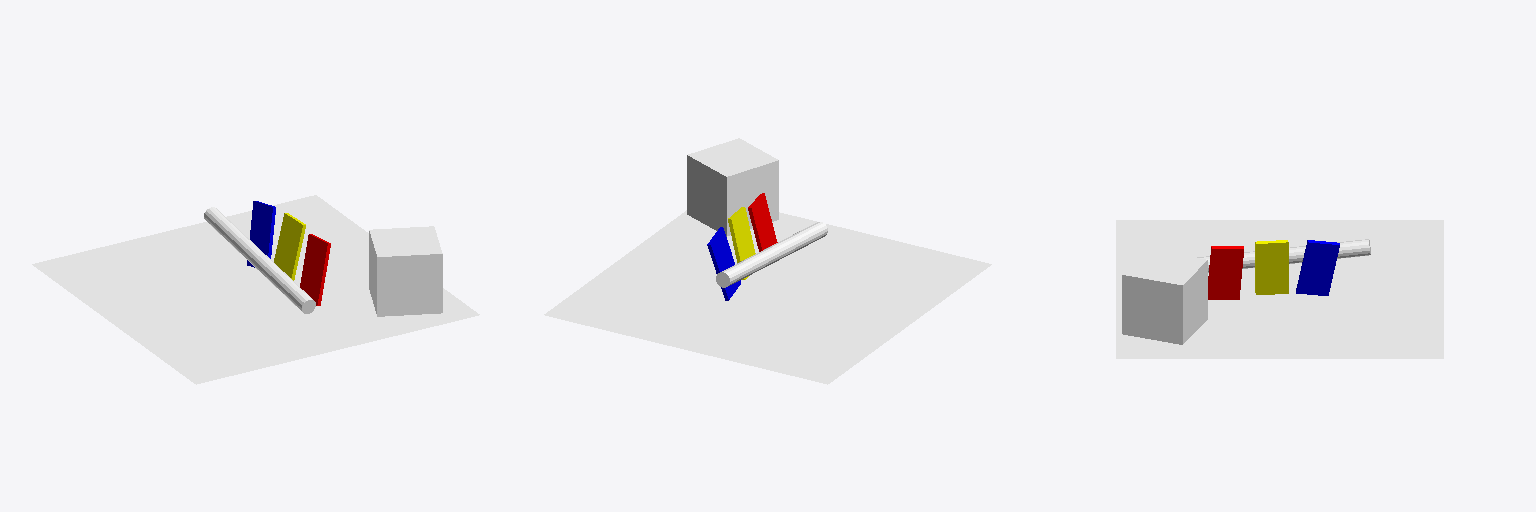
The model's file is color-bleeding.obj.
3 renders of one model, left to right at view 1: azimuth 30°, elevation 25°; view 2: azimuth 150°, elevation 25°; view 3: azimuth 270°, elevation 25°, orthographic.
Parts seen in each view (by area): view 1: color-bleeding.obj; view 2: color-bleeding.obj; view 3: color-bleeding.obj.
Boxes of the visible parts, <box> form: color-bleeding.obj: <box>32,195,479,384</box>; color-bleeding.obj: <box>544,138,991,384</box>; color-bleeding.obj: <box>1116,220,1443,358</box>.
Size of the model in its own units: 10 by 2.27 by 10.